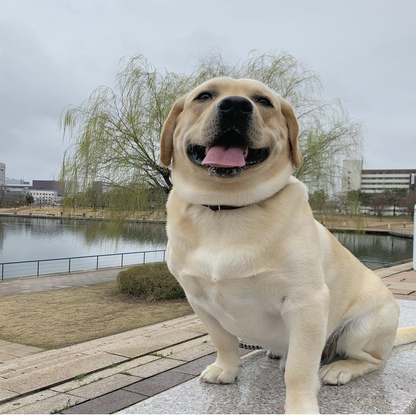labrado: (158, 71, 402, 416)
